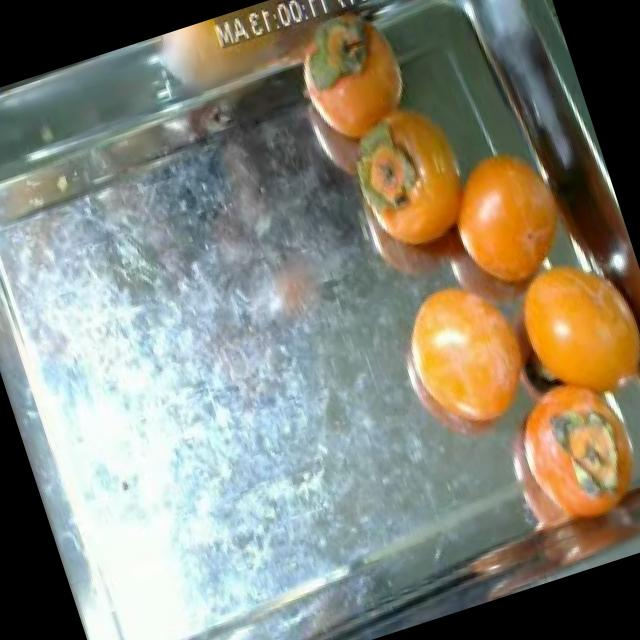Fruit: (366, 240, 570, 468), (420, 120, 590, 320), (490, 228, 640, 442)
